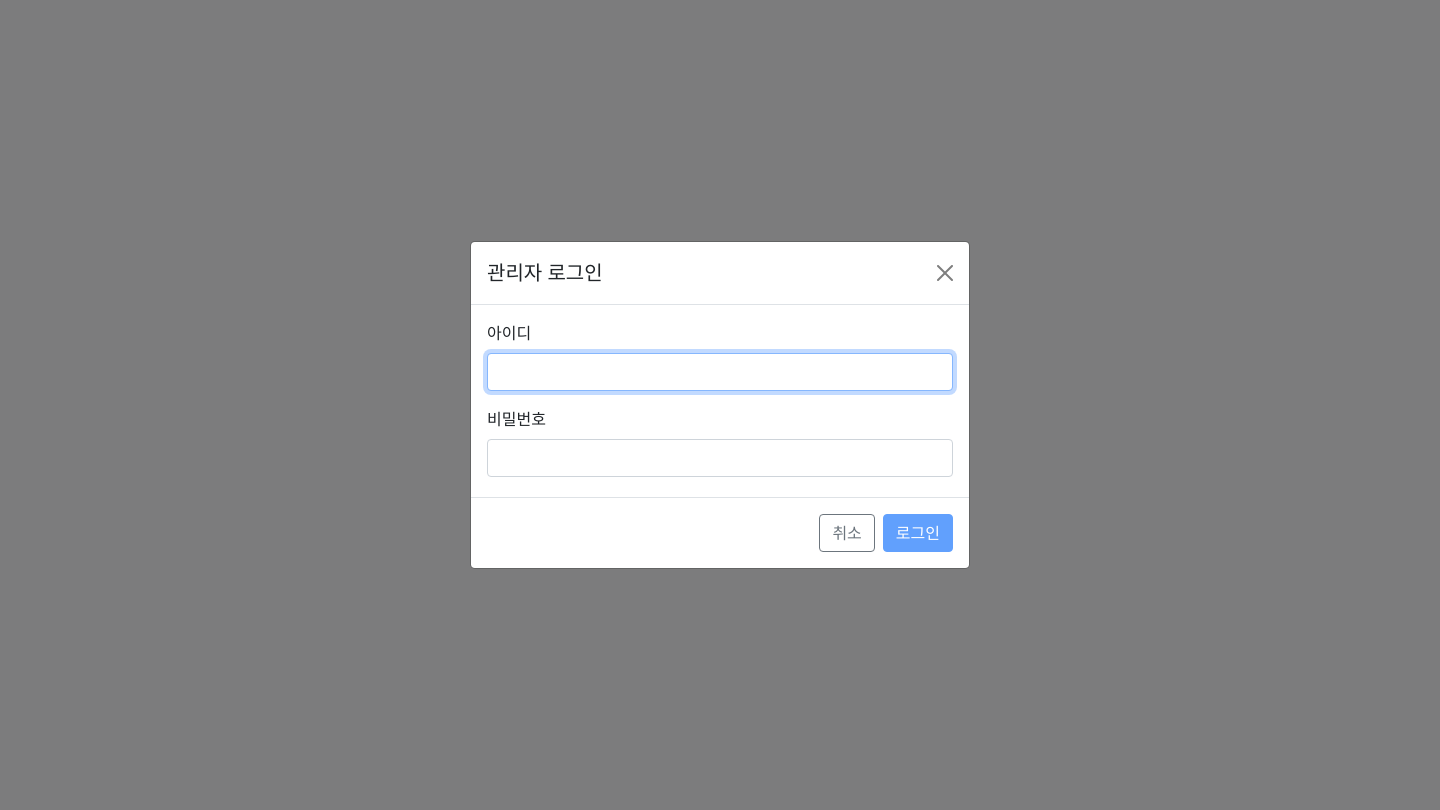
Scenario: LoginModal › shows the server message on failure and stays open
The width and height of the screenshot is (1440, 810).
Type "admin" into the field with id "login-username" at (720,372), box [487, 353, 953, 391]
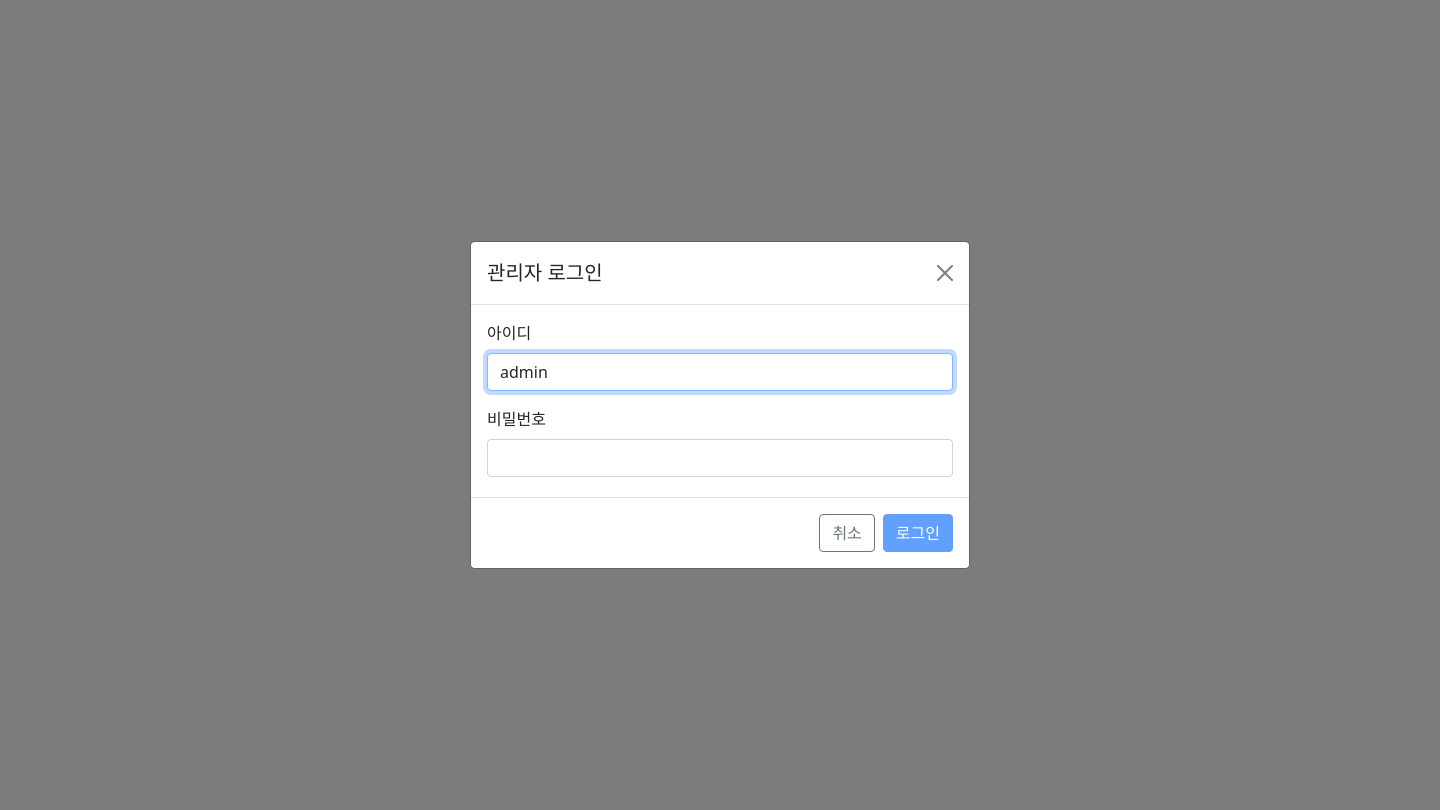
Type "wrong" into the password field with id "login-password" at (720,458), box [487, 439, 953, 477]
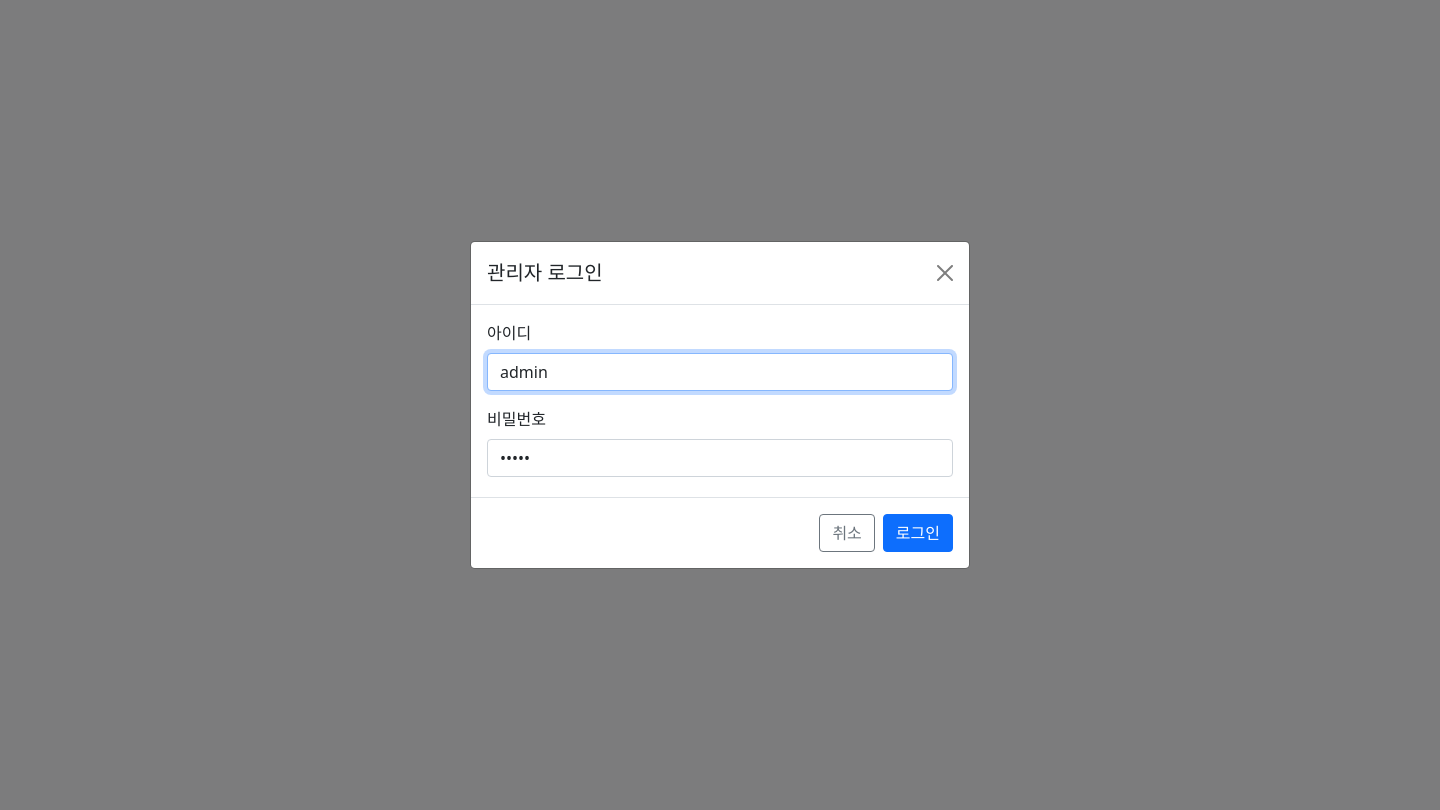
Submit the form, box [470, 241, 970, 569]
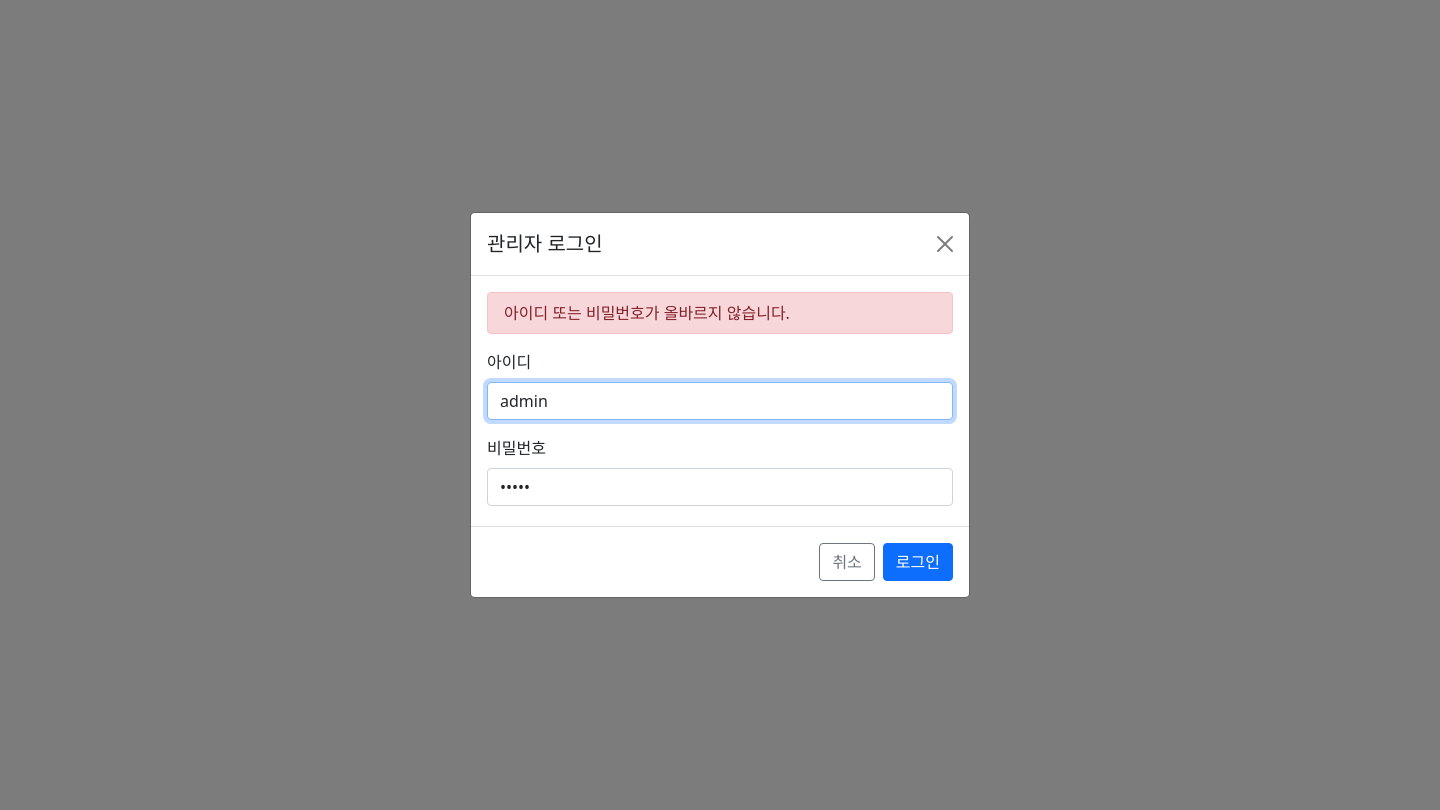
Expected: the message with test id "login-error" reads "아이디 또는 비밀번호가 올바르지 않습니다.", [504, 302, 790, 324]
